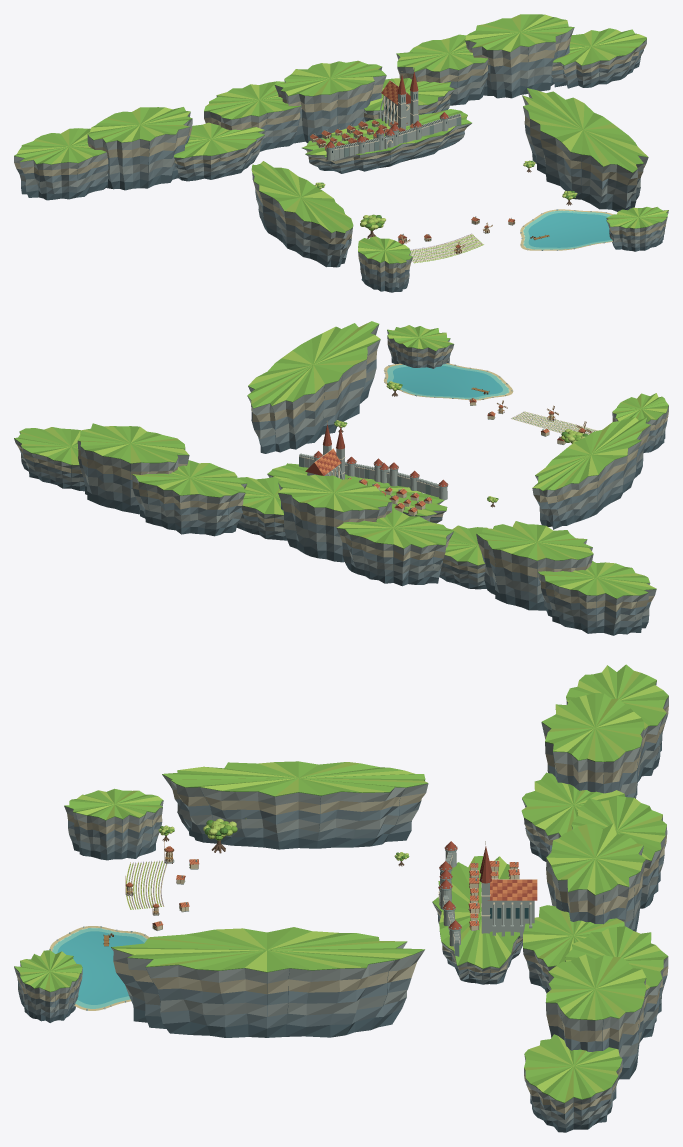
Rendered from port_landscape.glb.
3 views of the same model, one above another, from view 1: azimuth 30°, elevation 25°; view 2: azimuth 150°, elevation 25°; view 3: azimuth 270°, elevation 25° (orthographic). The views are drawn at different scales.
Visible parts, largest first — view 1: port_landscape; view 2: port_landscape; view 3: port_landscape.
Part boxes in pixels (x1,y1,x2,y2): port_landscape: (14, 14, 668, 292); port_landscape: (14, 321, 668, 635); port_landscape: (14, 664, 668, 1132).
Size of the model in its own units: 598 by 74 by 395.
